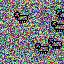sheep: (14, 12, 29, 24), (47, 38, 62, 50), (51, 20, 64, 33), (35, 42, 49, 54), (56, 9, 64, 20)
